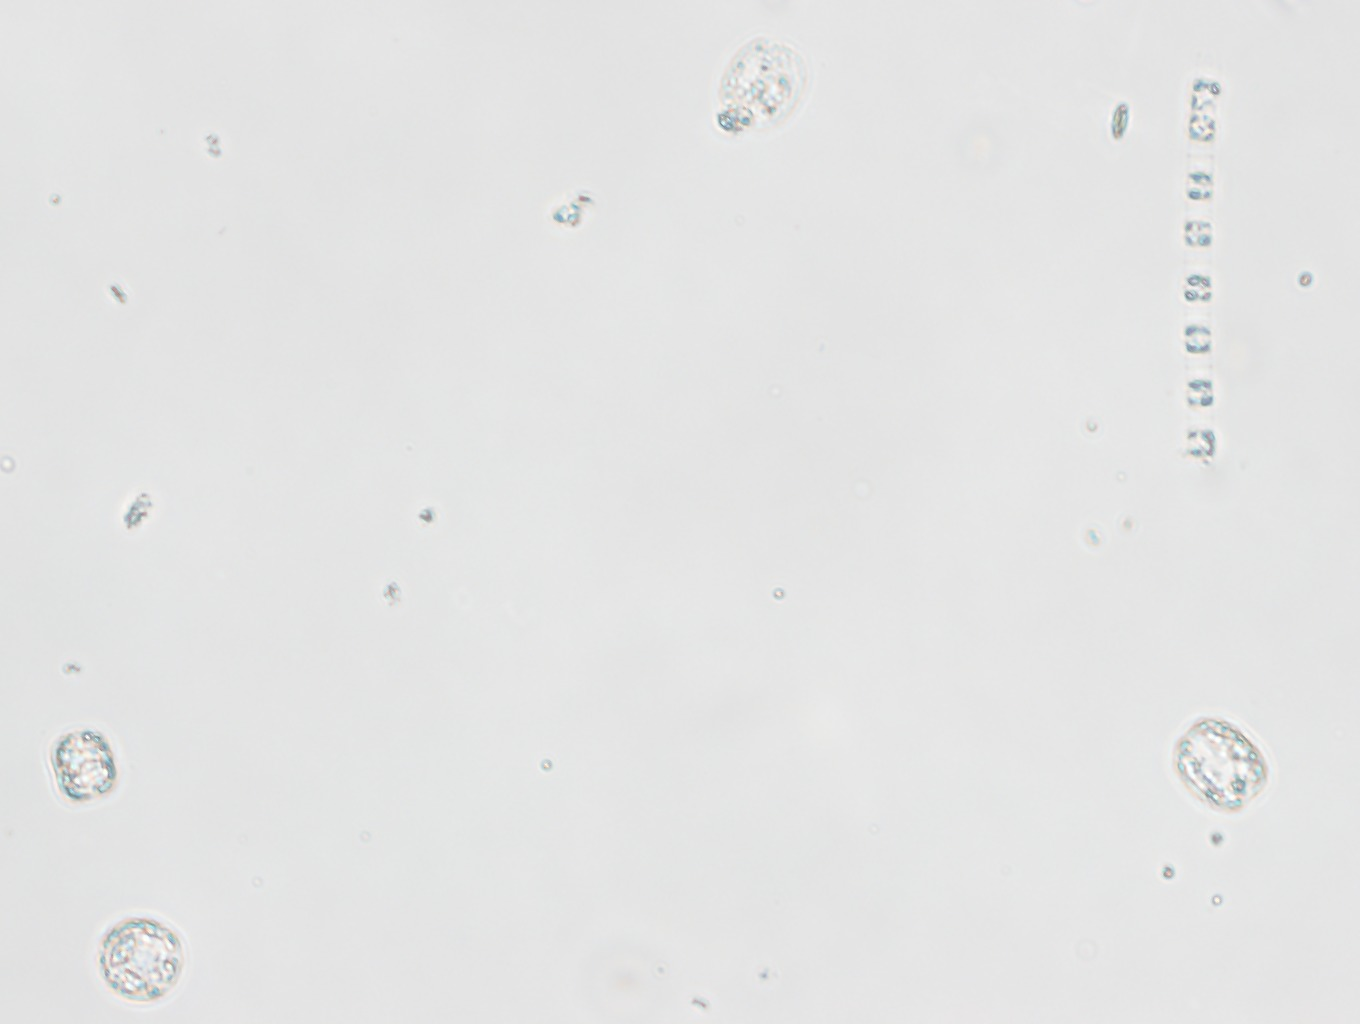skeletonema: (1184, 66, 1233, 470)
